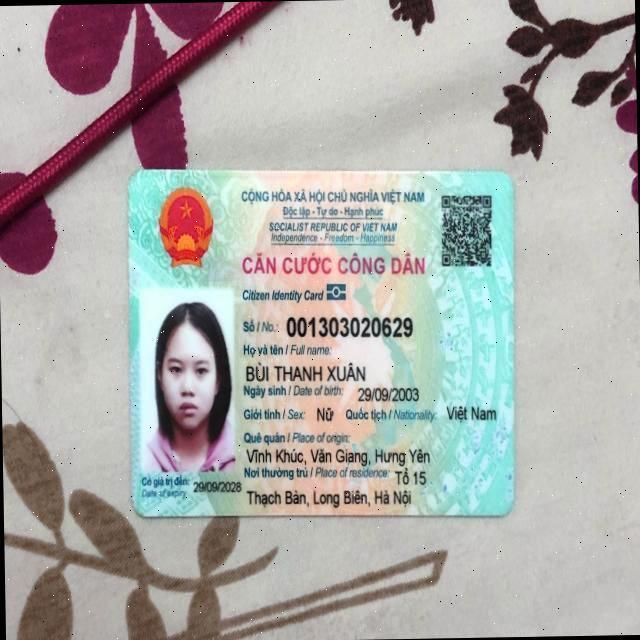current_place: (246, 482, 413, 510), (392, 464, 426, 488)
dob: (356, 383, 422, 410)
expire_date: (194, 474, 240, 498)
gender: (313, 403, 336, 428)
id: (285, 311, 412, 342)
name: (243, 350, 368, 386)
nationality: (441, 397, 499, 424)
origin_place: (245, 440, 432, 469)
qr: (436, 185, 498, 273)
